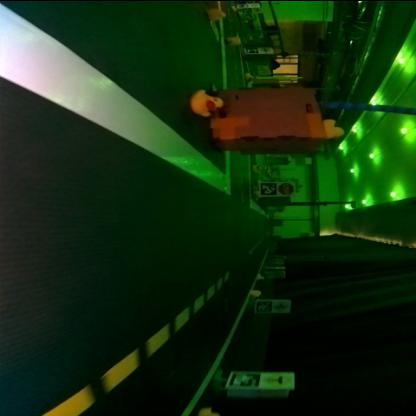Duckie: (192, 90, 223, 113), (325, 118, 344, 136), (208, 8, 226, 19), (252, 288, 262, 295)
Intersection sign: (269, 370, 294, 387), (274, 300, 292, 312)
QR code: (229, 370, 260, 388), (262, 182, 276, 194), (258, 298, 272, 310)
Stop sign: (279, 180, 295, 194)
